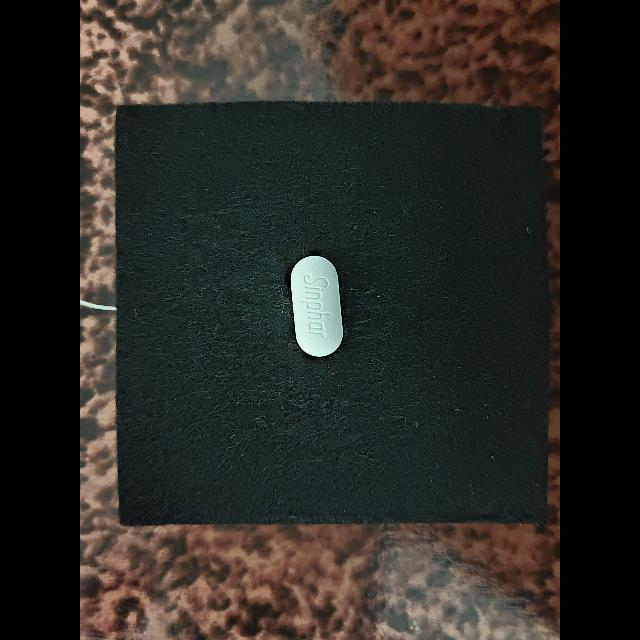Intact Pill: (291, 255, 343, 357)
